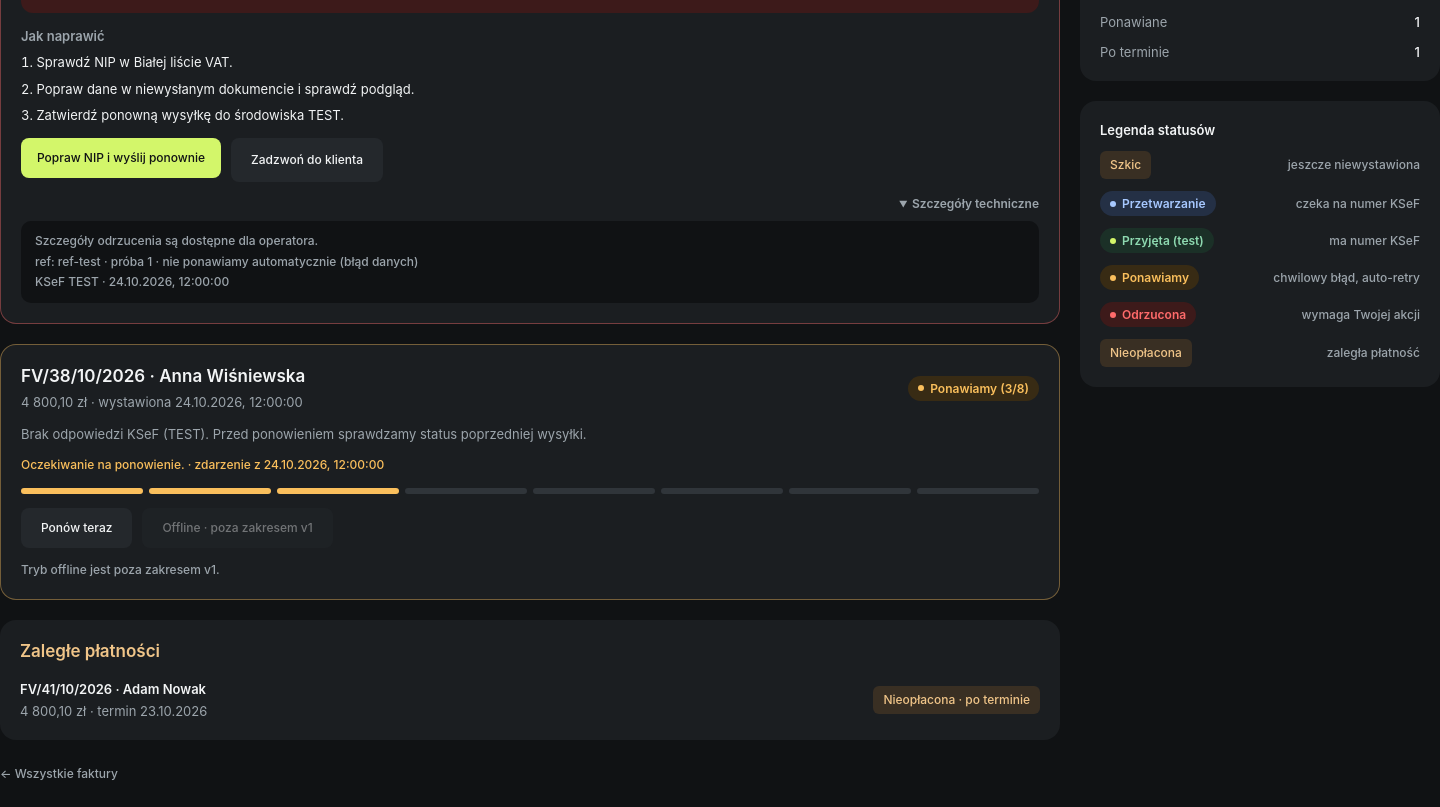
Test case: queues a real retry and reports its result at the invoice row
(page scrolled)
Expected: the text "ref: ref-test" is shown, [35,254,418,269]
Expected: the heading "Zaległe płatności" is shown, [20,641,160,661]
Click the button "Ponów teraz" at (77, 528), box [21,508,132,548]
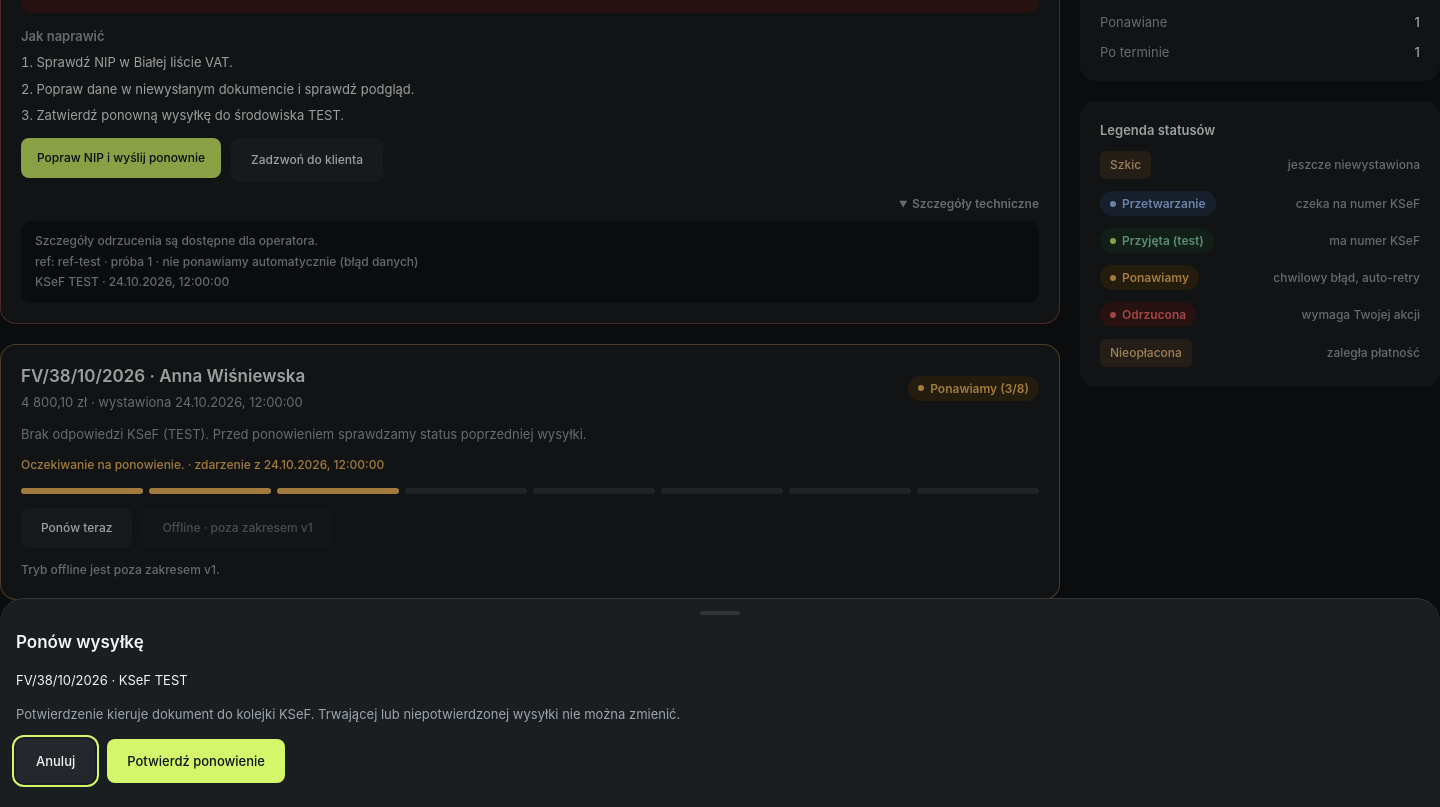
Expected: the dialog is shown, [0,598,1439,806]
Click the button "Potwierdź ponowienie" at (196, 761), box [107,739,285,783]
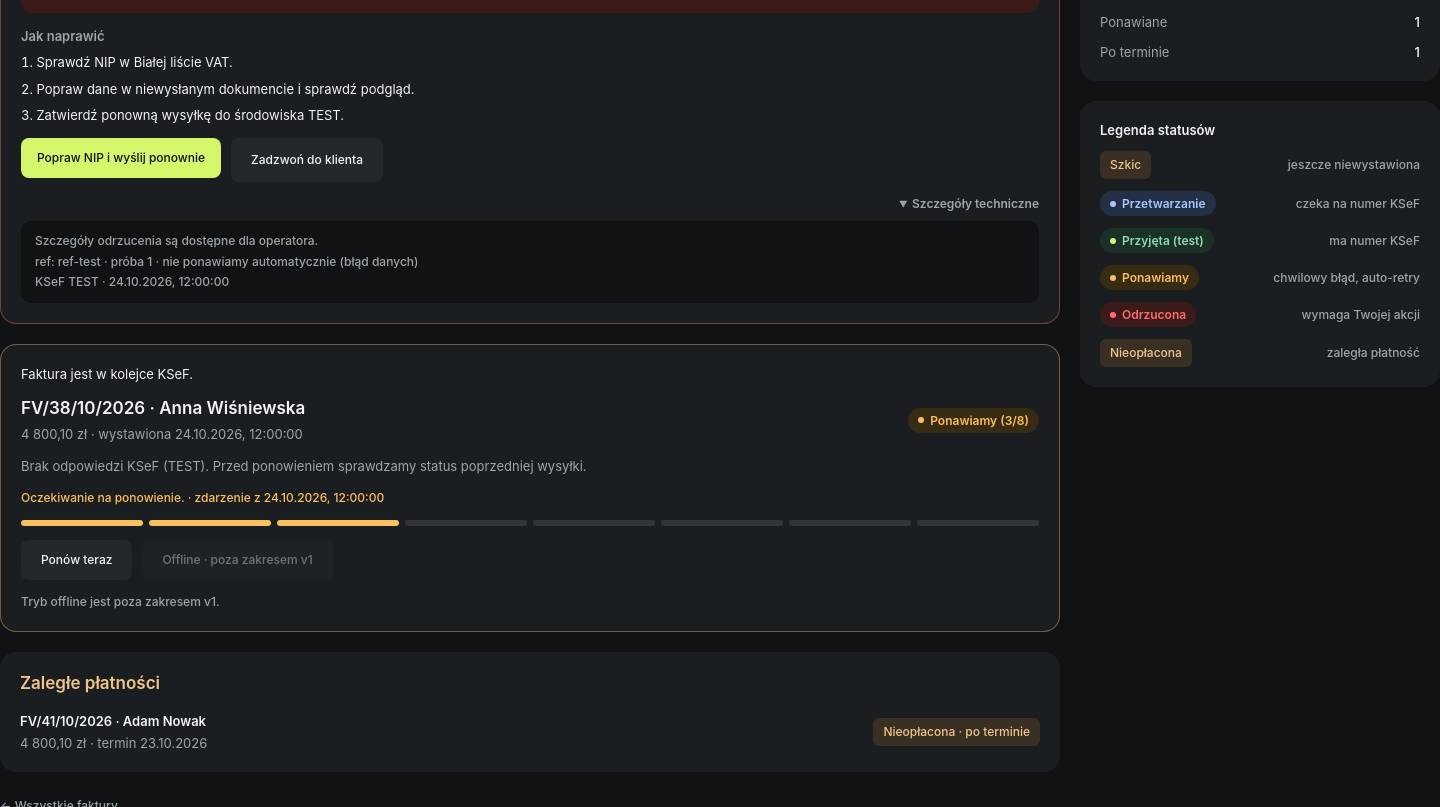
Expected: the element "FV/38" is shown, [0,344,1060,632]
Expected: the message shows "Faktura jest w kolejce KSeF", [21,366,193,382]
